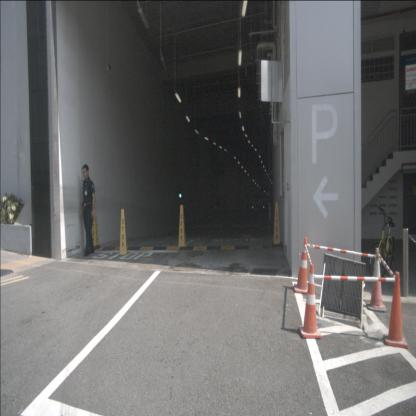movable_object-barrier: (118, 208, 128, 256), (178, 205, 188, 247), (90, 206, 100, 248), (272, 201, 281, 244)
movable_object-trafficcone: (384, 270, 408, 348), (299, 263, 321, 340), (366, 248, 386, 312), (294, 236, 310, 293)
vehicle-bicycle: (368, 205, 396, 279)
vehicle-car: (251, 193, 268, 214)
